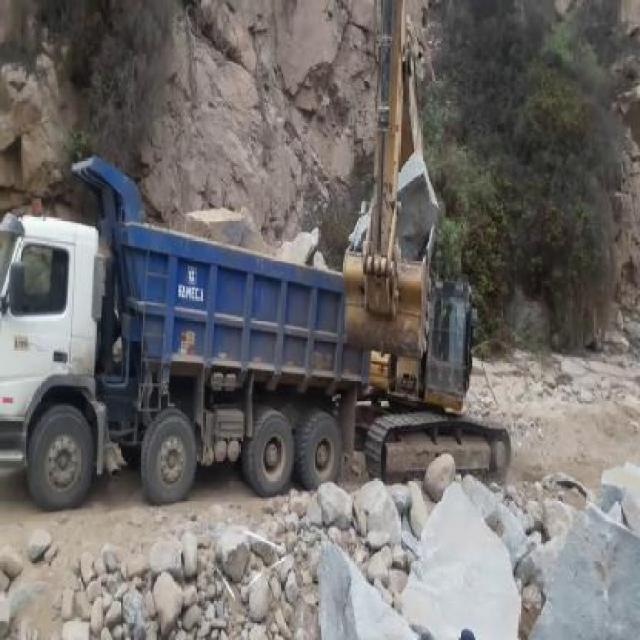Dump Truck: (1, 154, 372, 512)
Excavator: (342, 0, 512, 491)
